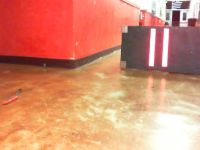switch: (148, 28, 156, 67), (161, 28, 169, 67)
